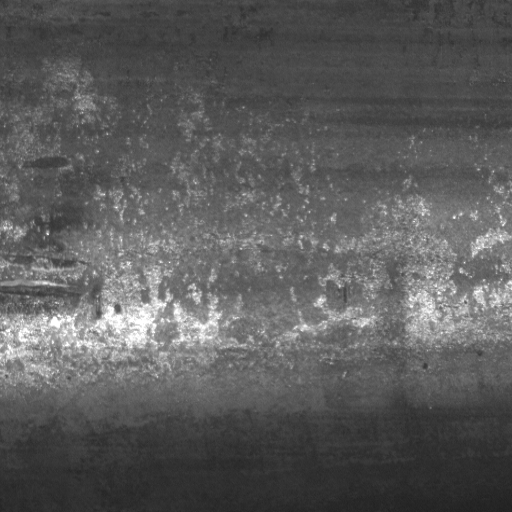aokeng: (1, 276, 84, 315)
